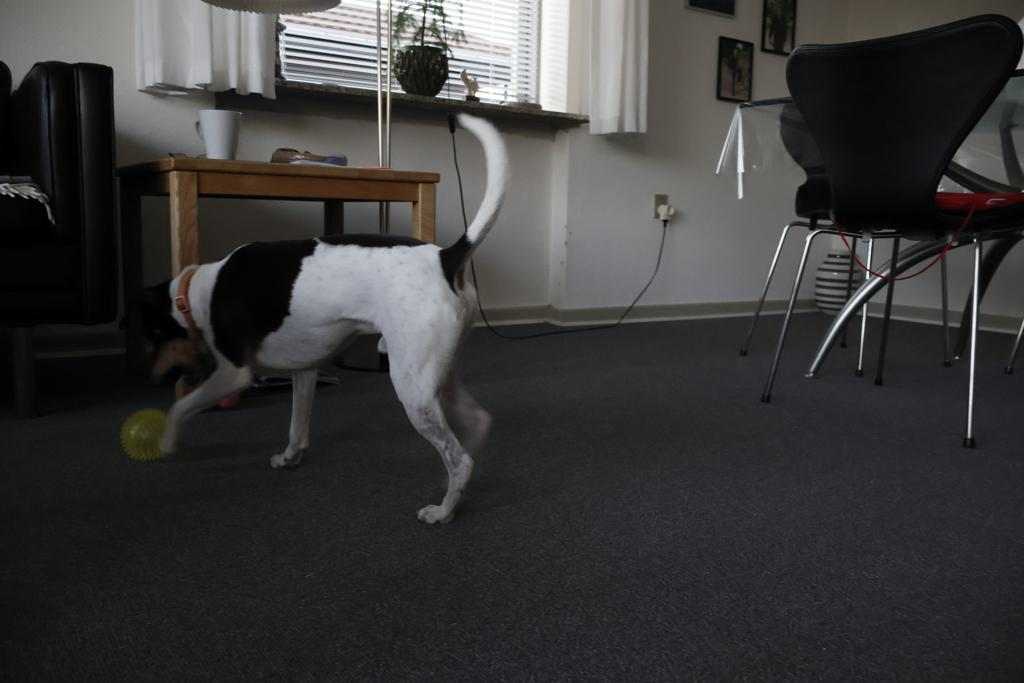Dog: (113, 105, 518, 537)
